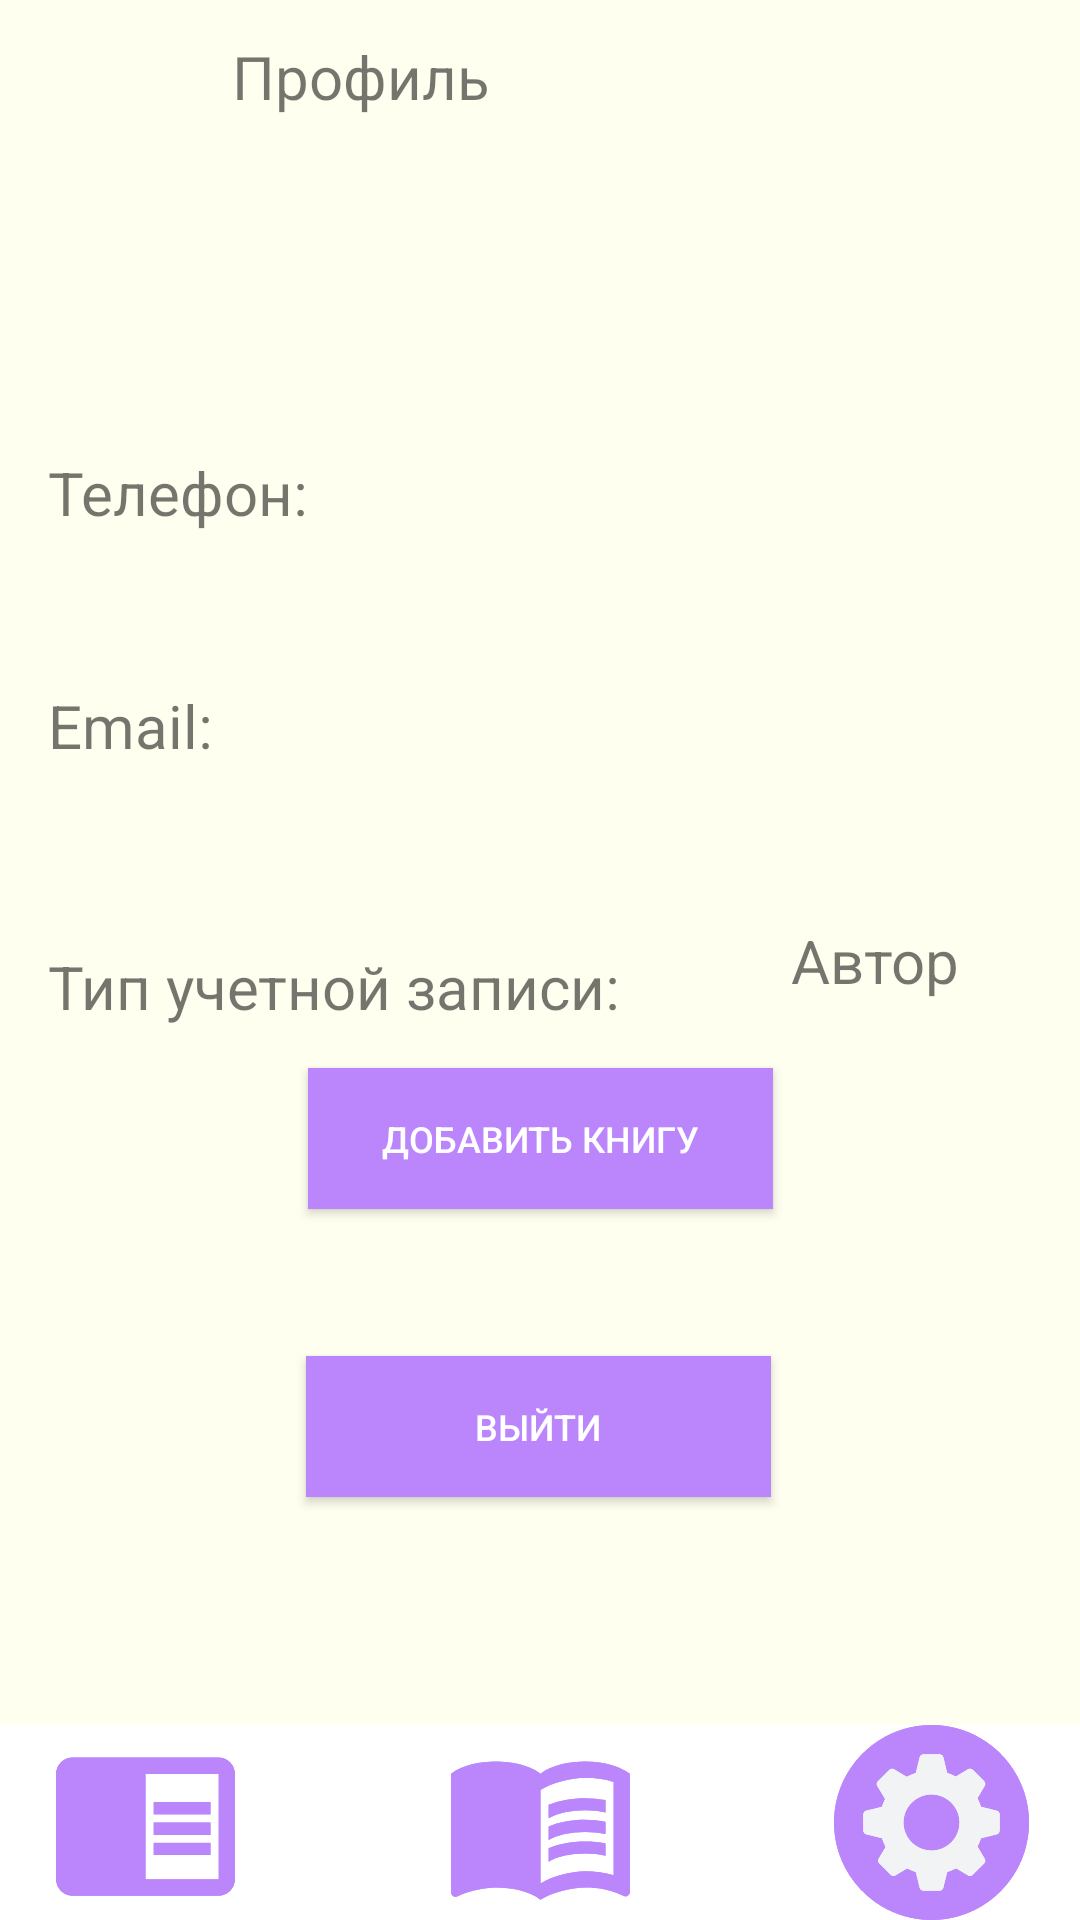

Named icons in this screenshot (1080 × 1920) and their bounding boxes, (x1, y1, x2, y2):
Books: (451, 1761, 630, 1900)
Settings: (834, 1725, 1029, 1920)
